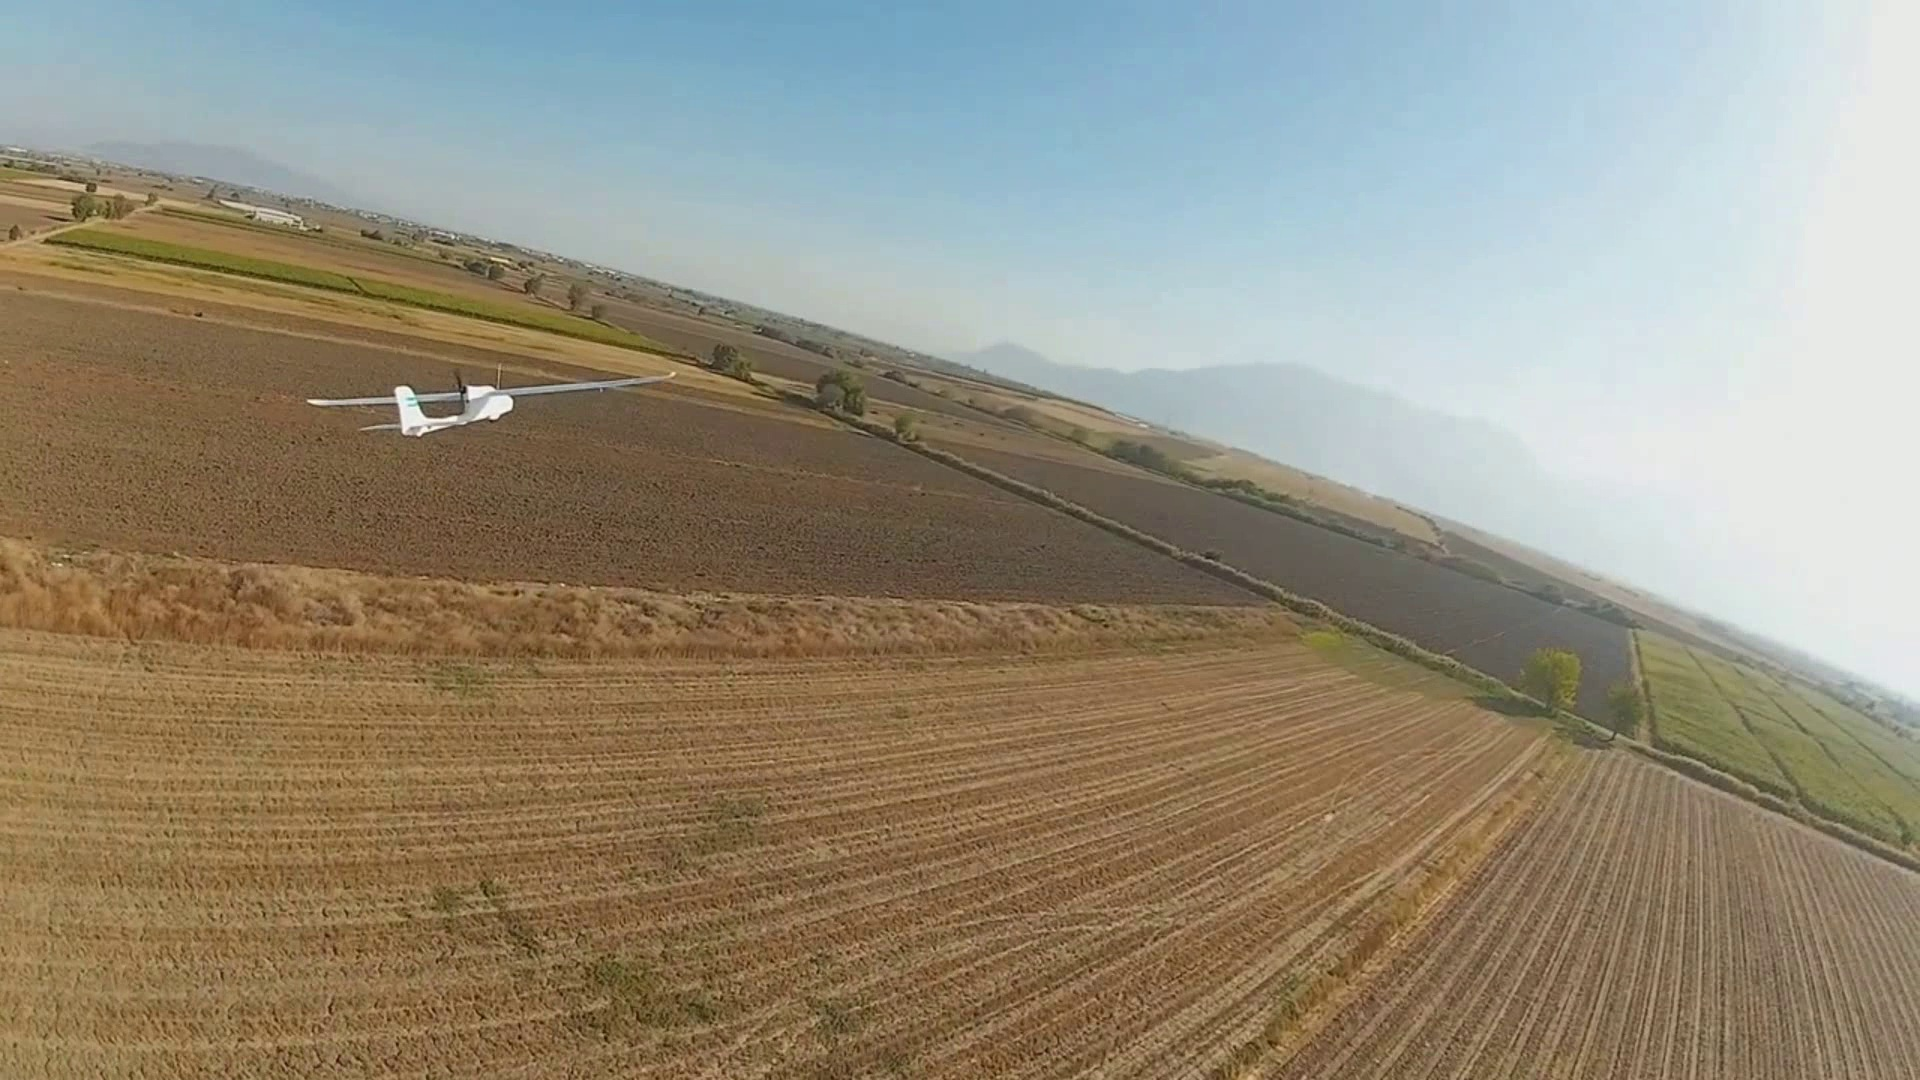airplane: (305, 378, 516, 436)
